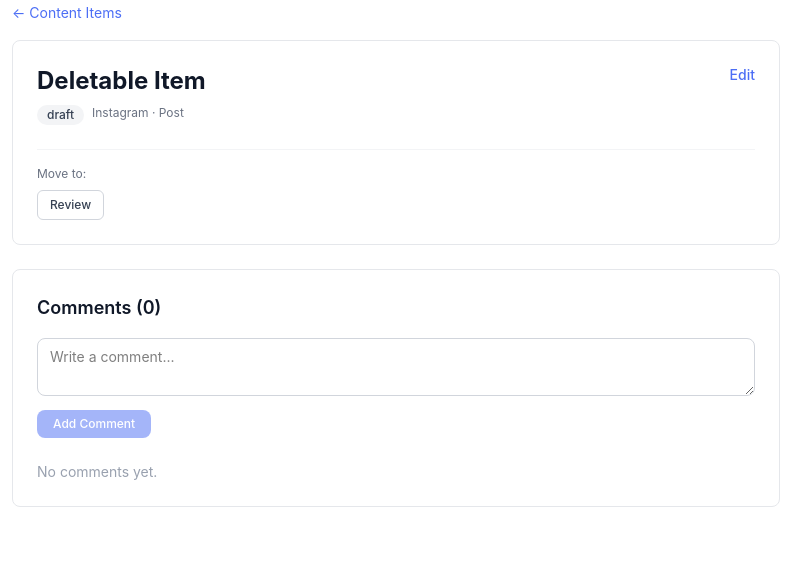
Test case: ContentDetail — navigation/import behavior preservation (lint hardening) › handleDeleteComment: coalesces prev.comments to [] when comments absent and deleting
This screenshot has width=797, height=584.
Expected: the heading "Deletable Item" is shown, [37,65,206,97]
Note: First, add a comment so there's something to delete
Type "Comment to delete" into the text box with placeholder "Write a comment...".
click(396, 367); type("Comment to delete")  # box [37,338,755,396]
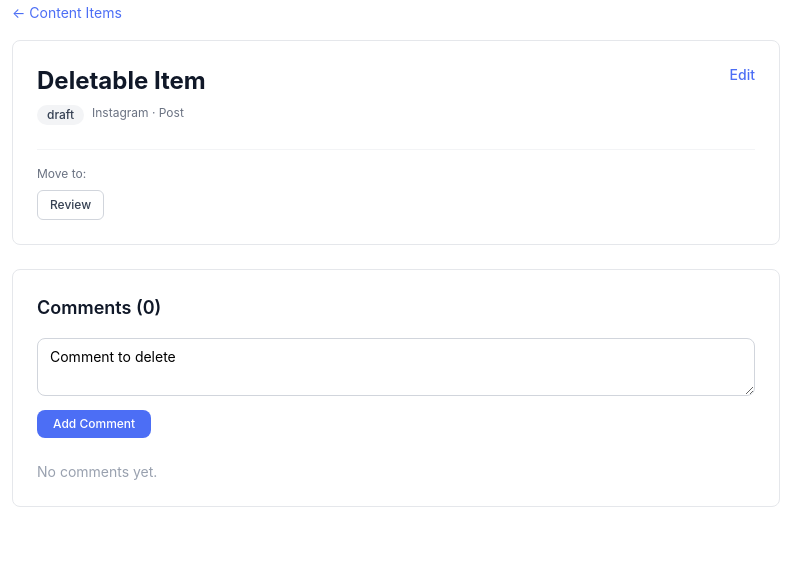
Click the button "Add Comment".
click(94, 424)  # box [37,410,151,438]
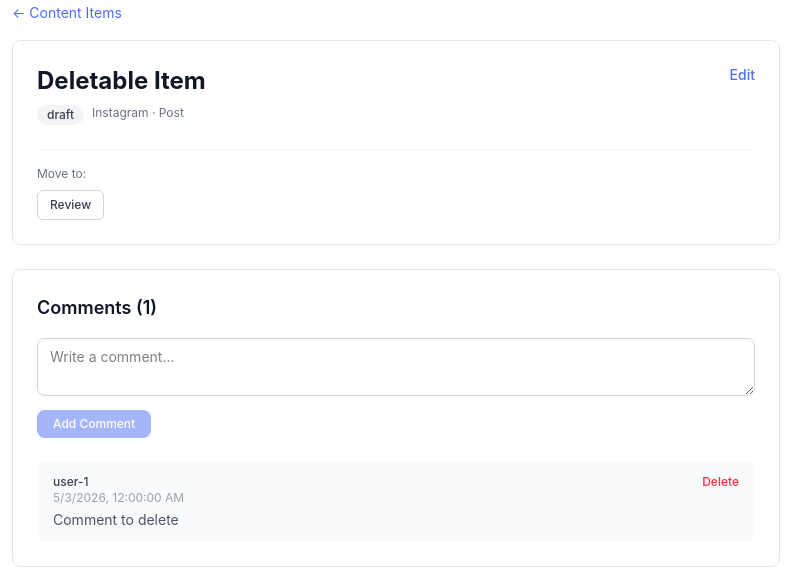
Expected: the text box "Comment to delete" is shown, [37,338,755,396]
Note: Now delete it — clicking Delete button
Click the button "Delete".
click(721, 482)  # box [702,474,739,490]
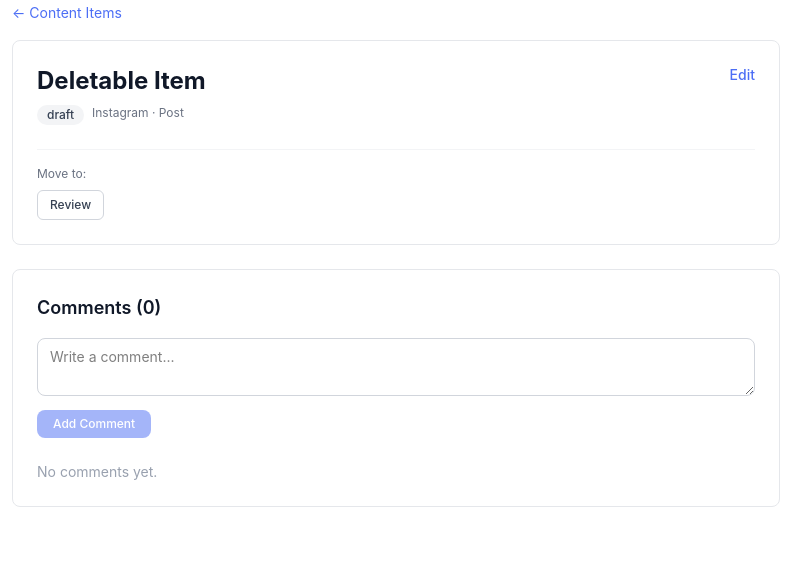
Expected: the text "No comments yet." is shown, [37,463,157,480]
Expected: the heading "Comments (0)" is shown, [37,297,161,318]
